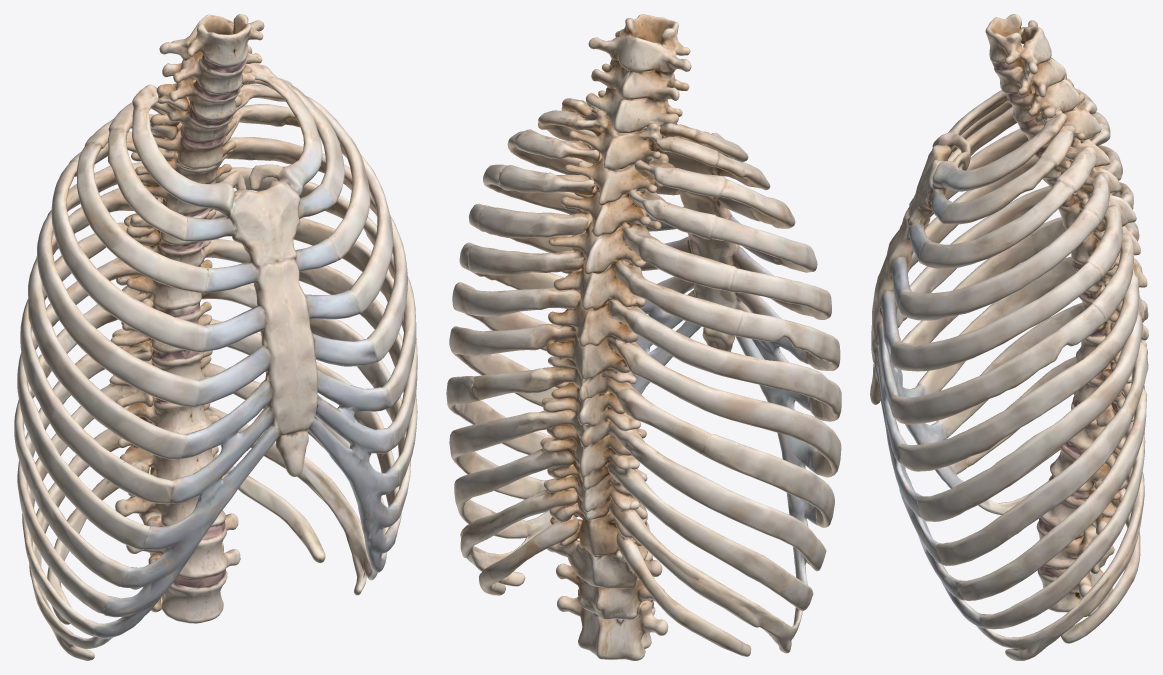
File: ribcage.glb
The picture shows the model from 3 angles, left to right: view 1: azimuth 30°, elevation 25°; view 2: azimuth 150°, elevation 25°; view 3: azimuth 270°, elevation 25°; orthographic projection. The views are drawn at different scales.
Visible parts, largest first — view 1: human-rib-cage; view 2: human-rib-cage; view 3: human-rib-cage.
Boxes of the visible parts, box(x1,y1,x2,y2) form: human-rib-cage: box(14, 14, 417, 660); human-rib-cage: box(446, 14, 841, 660); human-rib-cage: box(870, 14, 1148, 660).
Bounding box in the file's own units: 0.213 × 0.34 × 0.1482.
1 material, 1 textured.
